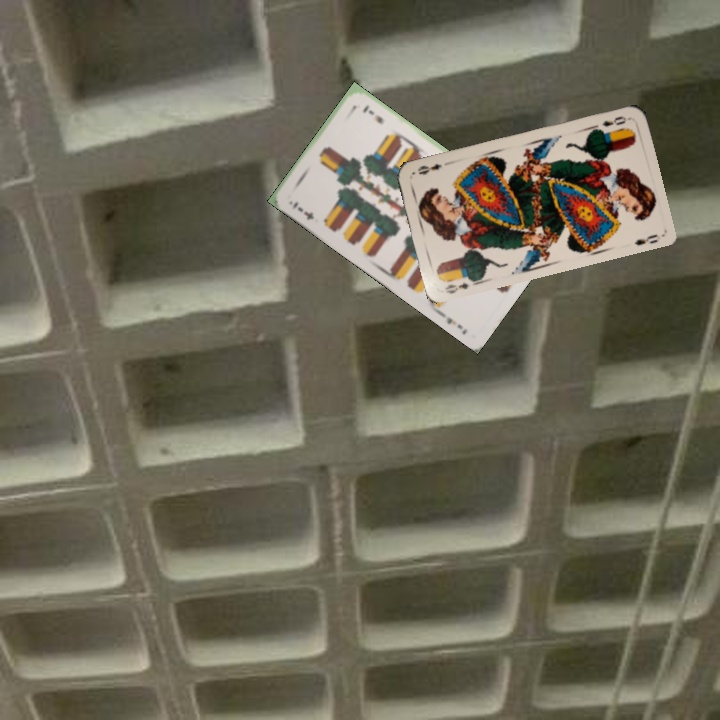E7: (288, 197, 317, 223)
EO: (441, 272, 479, 296), (598, 112, 629, 129)
